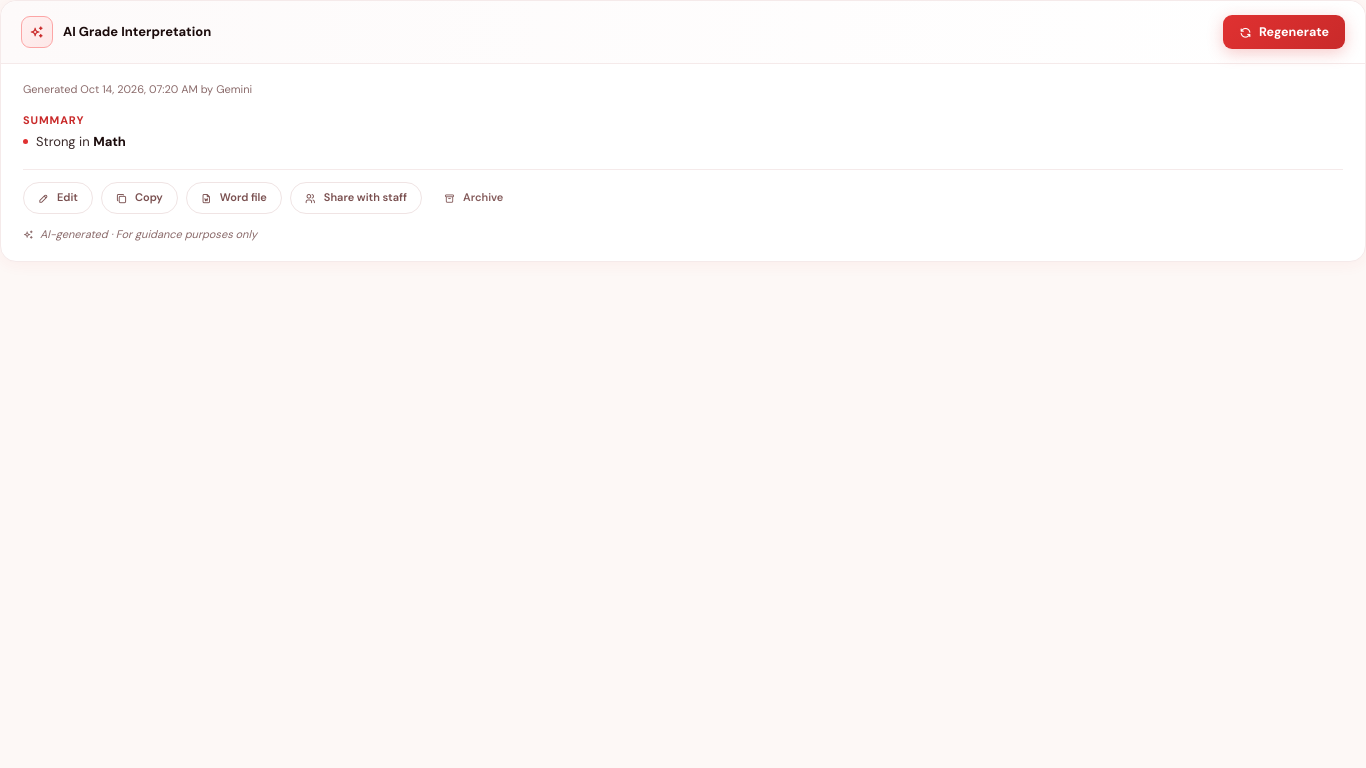
AIInsightPanel › archives only after asking
This screenshot has width=1366, height=768.
What coordinates should you click on to do the following:
click the button "Archive"
I would click on:
 (474, 198)
Its box is [430,182,517,214].
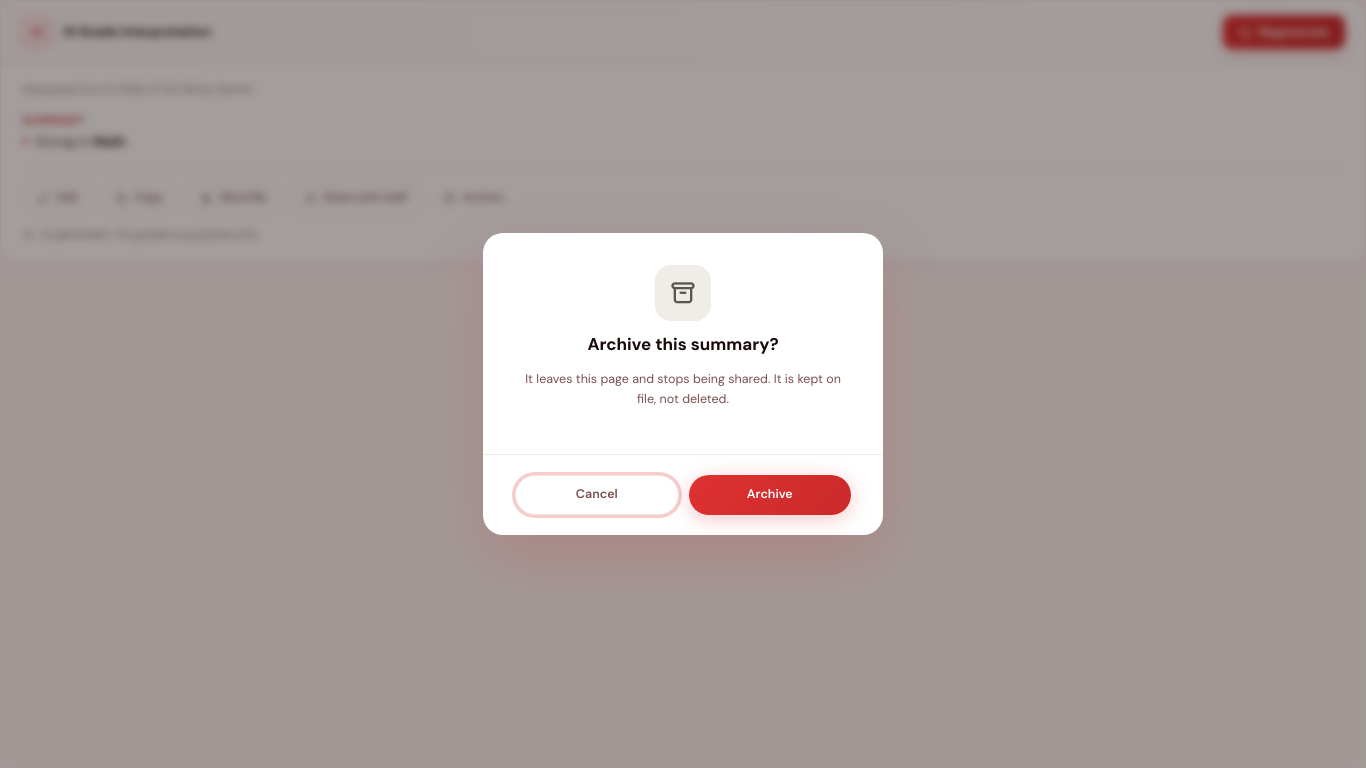
Now the heading "Archive this summary?" is shown, box [587,333,779,357]
What coordinates should you click on to do the following:
click the button "Archive"
I would click on:
 (770, 495)
Its box is [689,475,851,515].
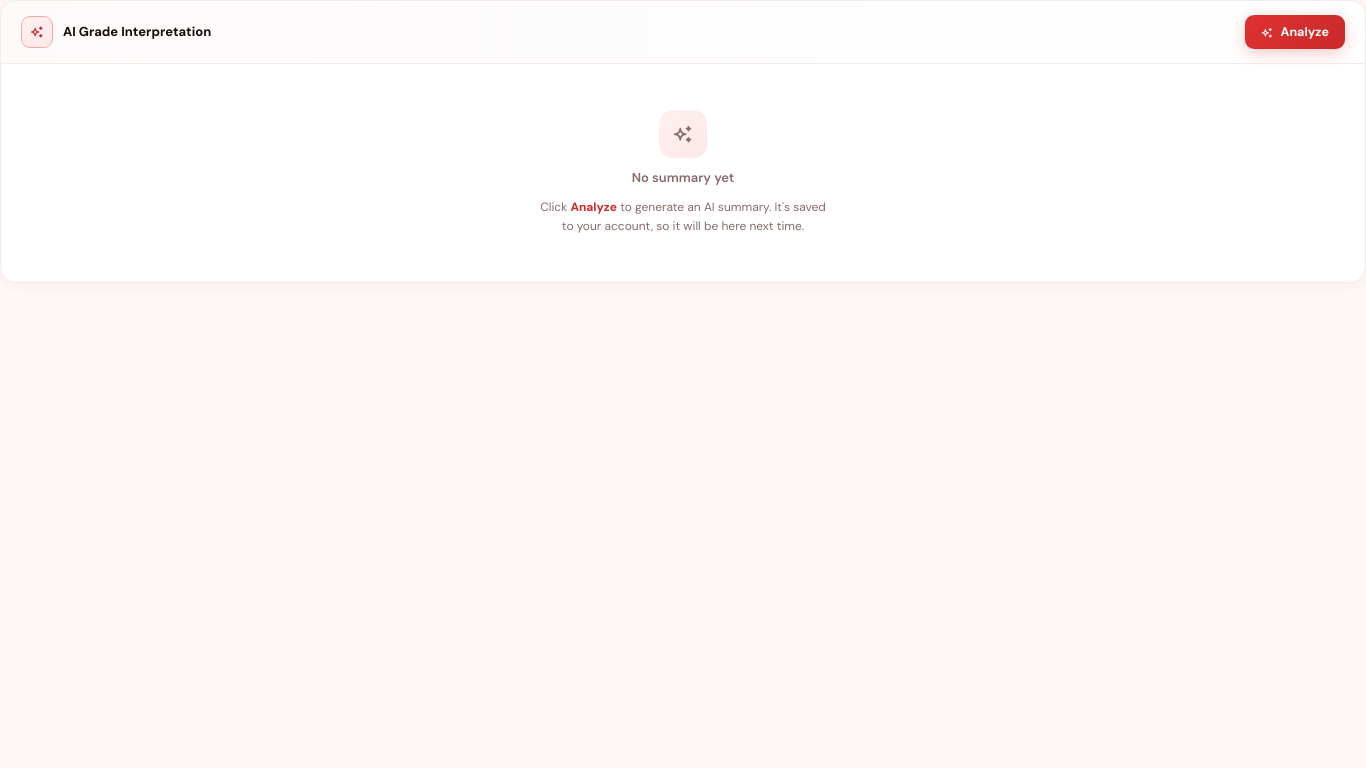
Now the text "No summary yet" is shown, box [632,168,734,188]
